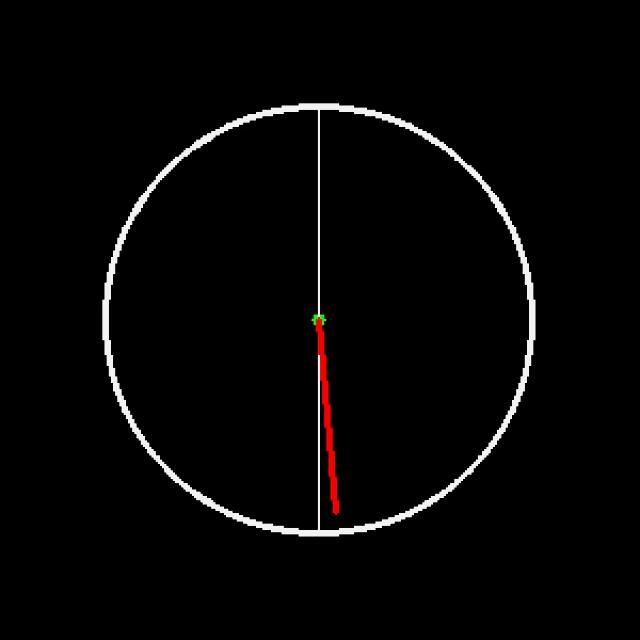Needle_Tip: (301, 459, 364, 524)
Needle_base: (289, 290, 351, 348)
